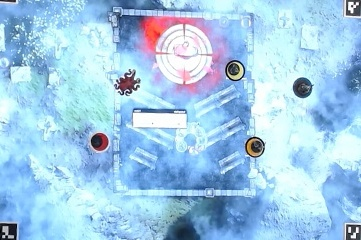brown_turquoise: (291, 74, 314, 97)
giant_red_octopus: (112, 67, 141, 97)
lime_green_violet: (223, 61, 245, 84)
red: (88, 130, 110, 153)
yellow_night_blue: (244, 134, 267, 157)
